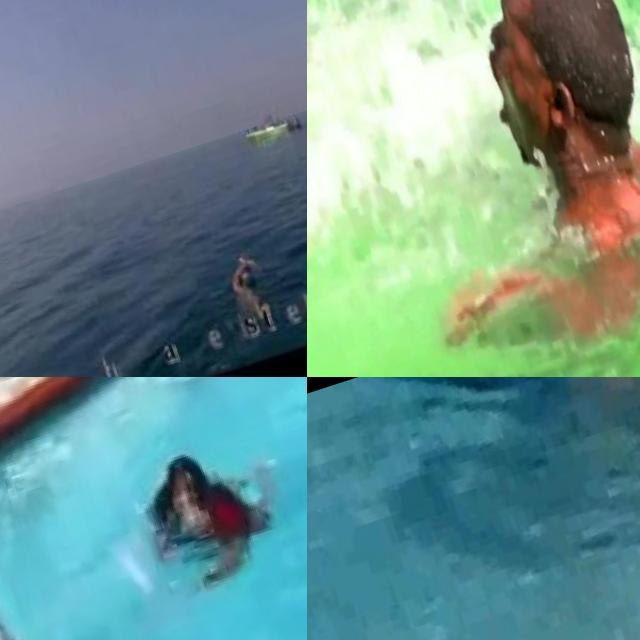drowning: (104, 409, 298, 613)
swimming: (401, 0, 640, 315), (519, 377, 640, 454), (221, 252, 274, 314)
